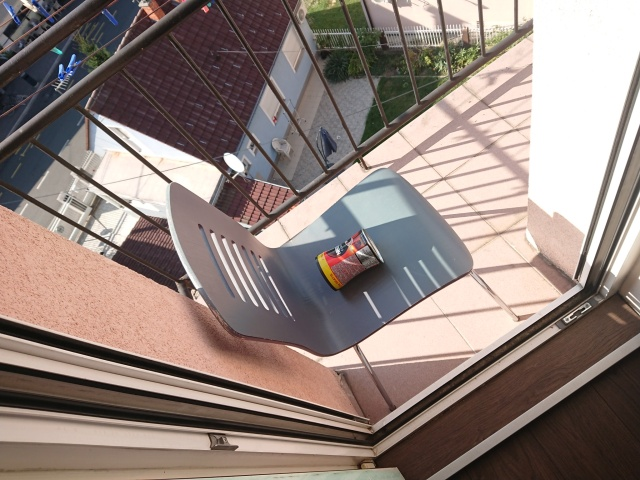Nescafe Classic 225g: (309, 223, 390, 296)
